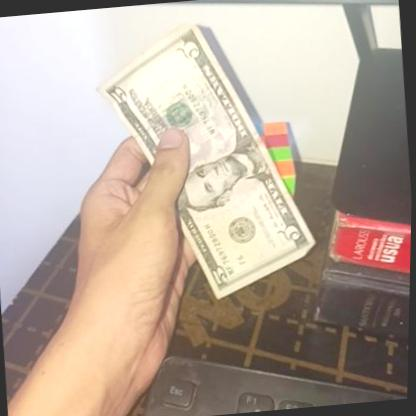five-front: (91, 15, 325, 310)
